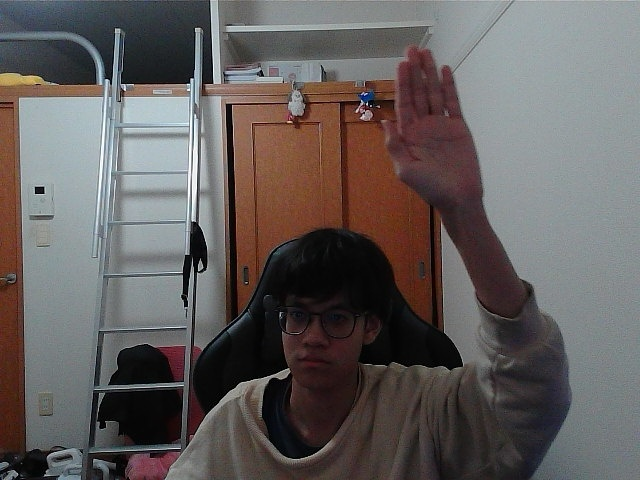open_palm: (390, 52, 457, 190)
